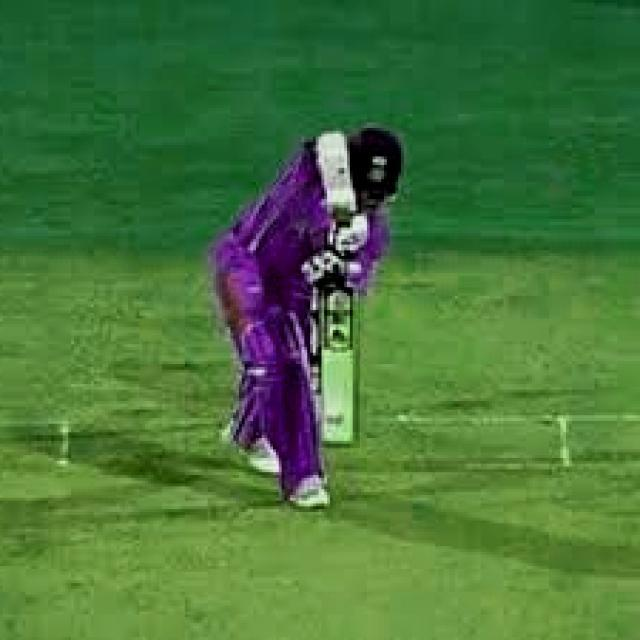bat: (305, 288, 365, 443)
toe: (317, 433, 363, 451)
